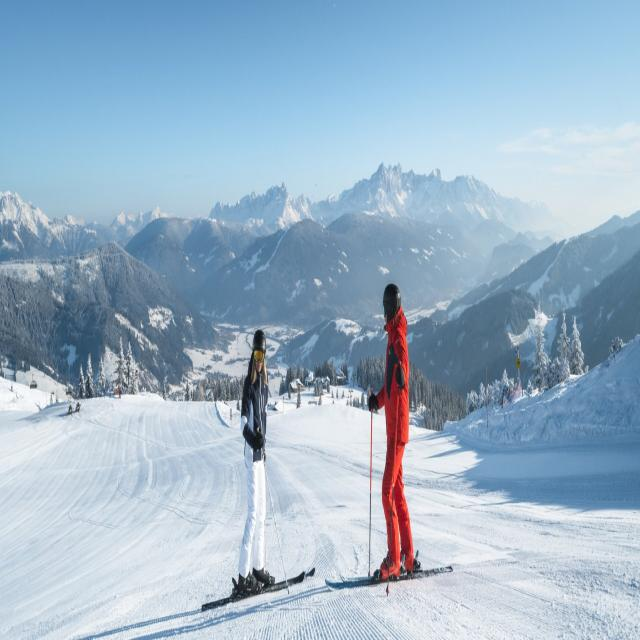skier: (323, 280, 460, 597), (202, 319, 317, 610)
